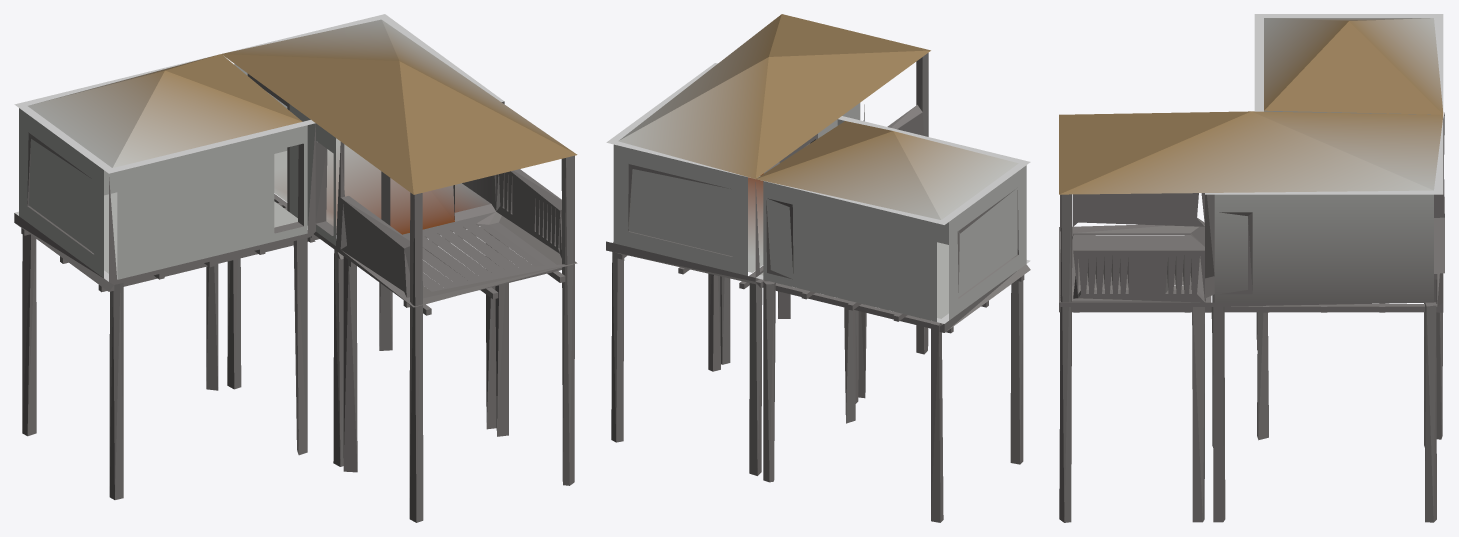
File: pier-hut.zfix-v5.lod1.glb
The picture shows the model from 3 angles, left to right: view 1: azimuth 30°, elevation 25°; view 2: azimuth 150°, elevation 25°; view 3: azimuth 270°, elevation 25°; orthographic projection. The views are drawn at different scales.
Visible parts, largest first — view 1: Material2; view 2: Material2; view 3: Material2.
Boxes of the visible parts, left/top/right/bottom form: Material2: left=14, top=14, right=577, bottom=522; Material2: left=606, top=14, right=1030, bottom=522; Material2: left=1059, top=14, right=1444, bottom=522.
Bounding box in the file's own units: 12 × 11.44 × 10.76.
